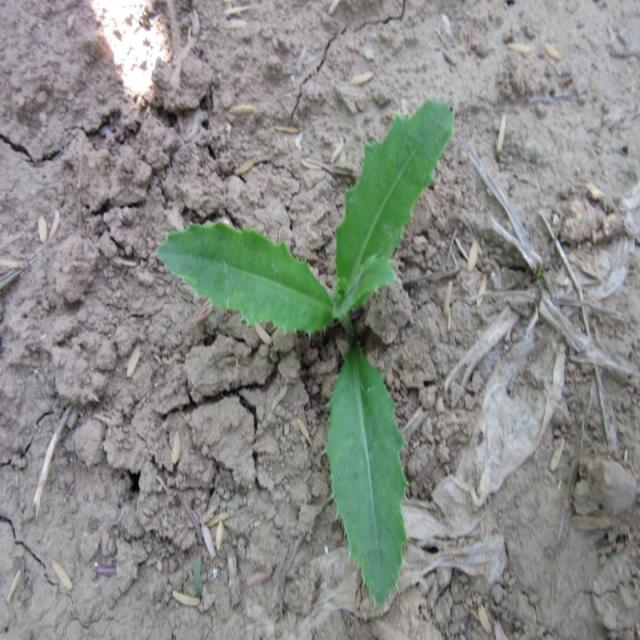field_thistle: (185, 105, 478, 598)
